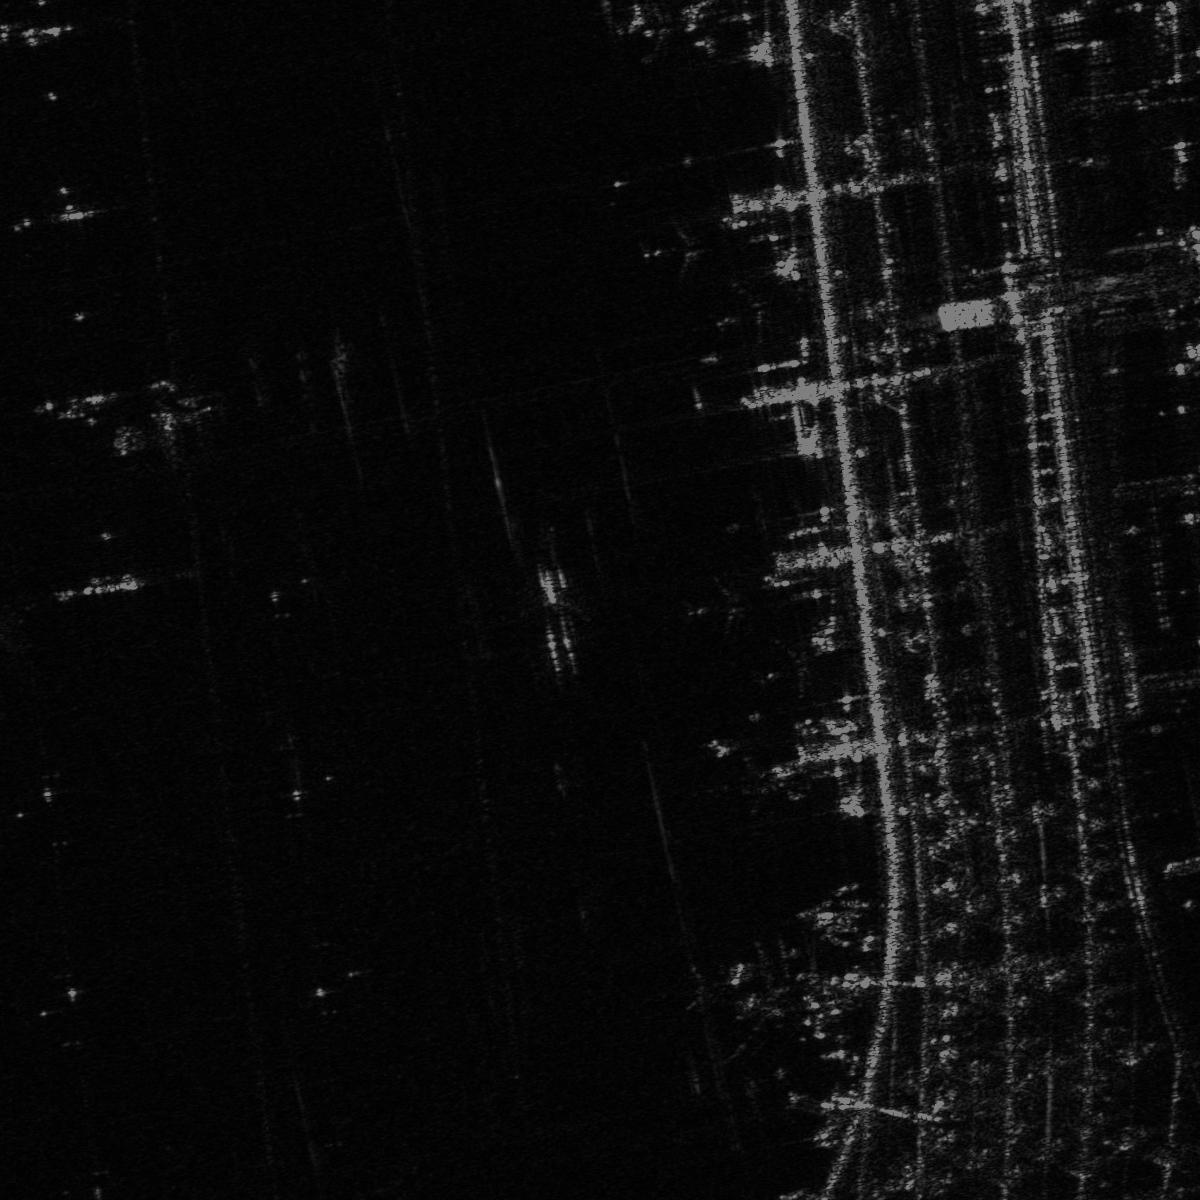Boeing787: (692, 937, 803, 1065), (643, 216, 723, 284), (688, 575, 755, 638), (714, 284, 784, 341), (762, 641, 821, 699)
